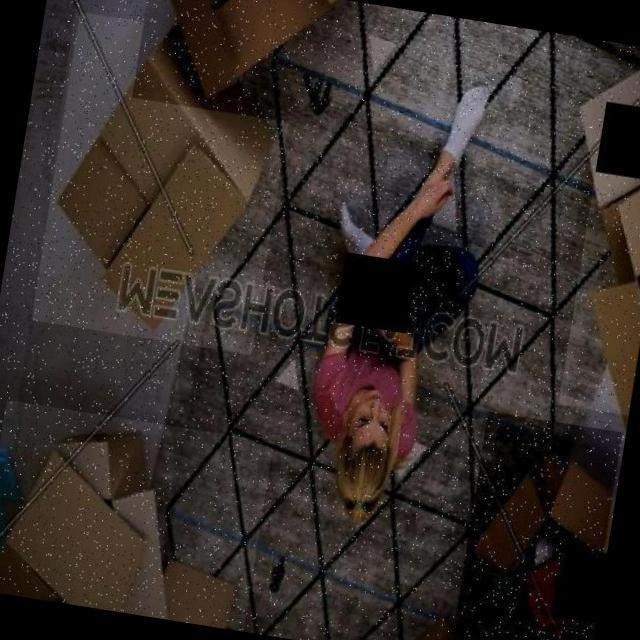box: (31, 12, 300, 355), (0, 400, 273, 632), (453, 411, 624, 640), (132, 0, 337, 127), (559, 163, 640, 416)
